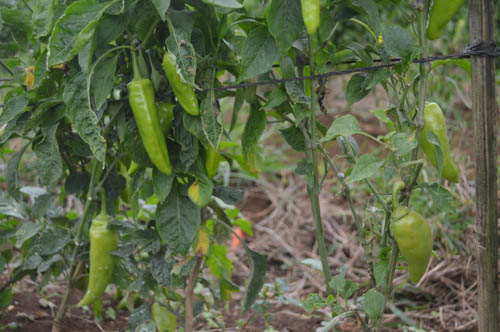ChiliPepper: (414, 104, 462, 186), (74, 218, 117, 308), (128, 82, 171, 172), (387, 205, 435, 283), (164, 51, 199, 117), (203, 137, 220, 178)
